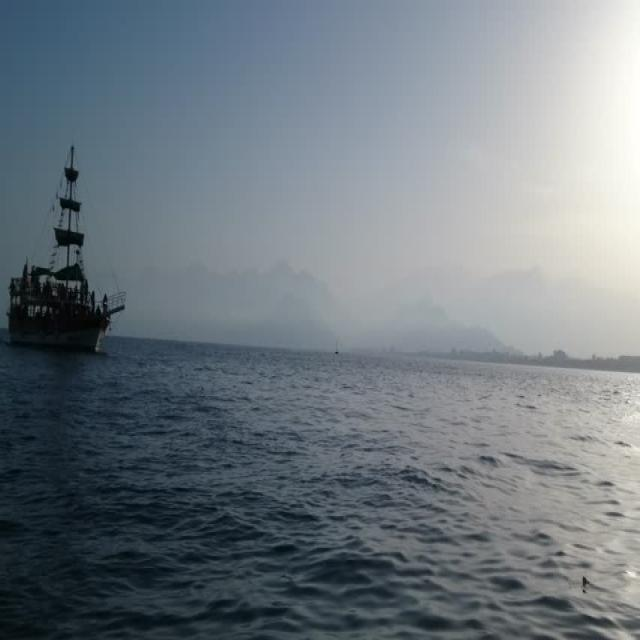fishing boat: (10, 143, 118, 347)
